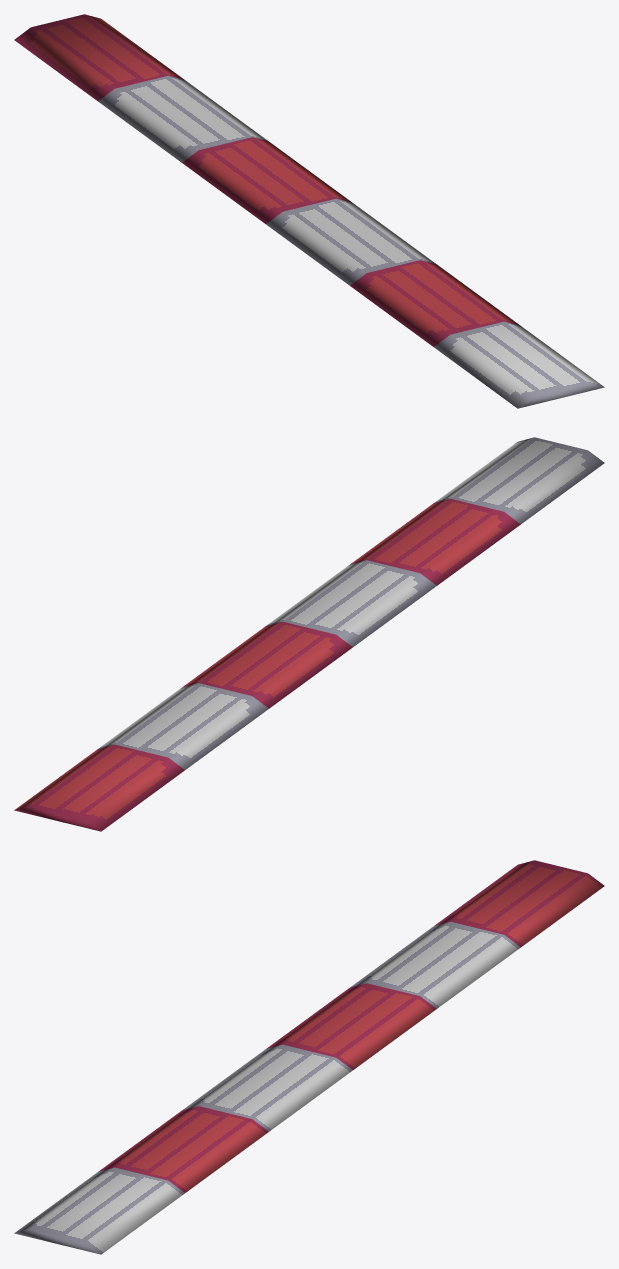
File: rumblestrip.fbx
The picture shows the model from 3 angles, top to bottom: view 1: azimuth 30°, elevation 25°; view 2: azimuth 150°, elevation 25°; view 3: azimuth 330°, elevation 25°; orthographic projection.
Parts seen in each view (by area): view 1: RumbleStripMid; view 2: RumbleStripMid; view 3: RumbleStripMid.
Part boxes in pixels (x1,y1,x2,y2): RumbleStripMid: [14, 14, 604, 408]; RumbleStripMid: [14, 437, 604, 831]; RumbleStripMid: [14, 860, 604, 1254].
Bounding box in the file's own units: 40 × 3.74 × 400.
